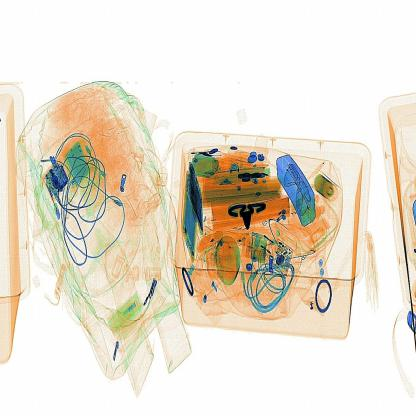gun: (221, 196, 272, 235)
